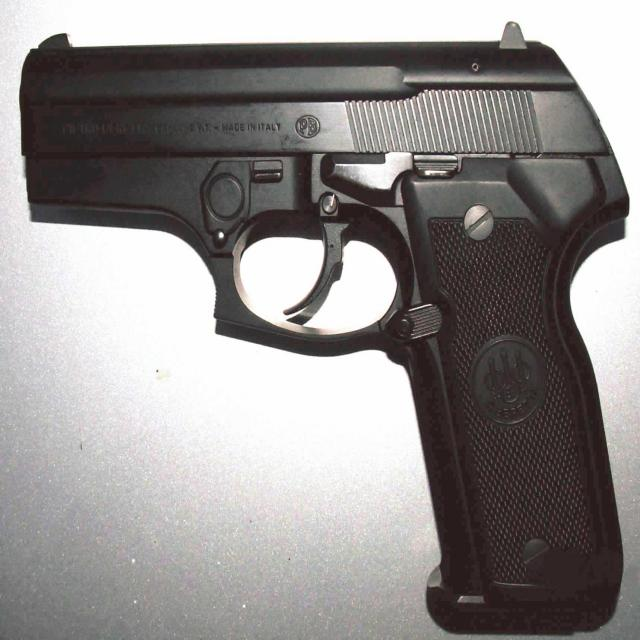pistol: (11, 16, 632, 634)
